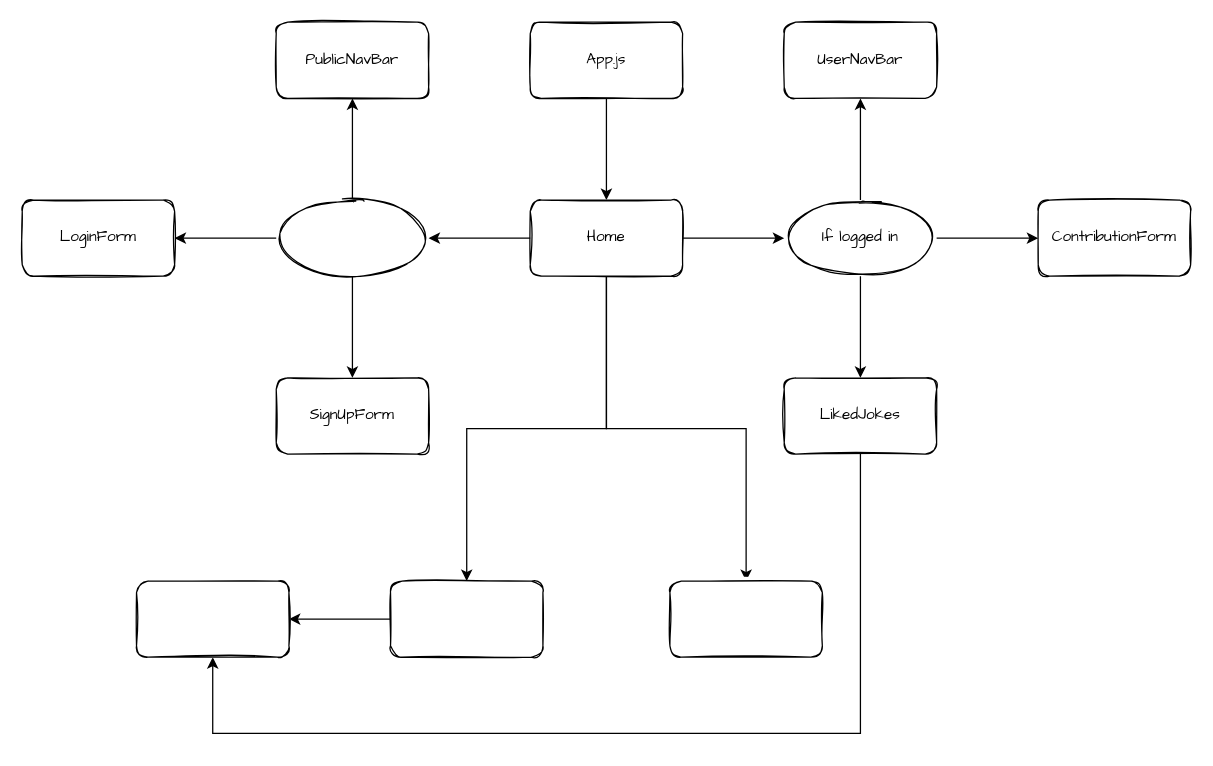
The diagram is 1213 pixels wide and 766 high, and some of its shapes have lost their labels. The centre of each missing label's shape, as x and y in pixels:
"About" belongs at pixel 745 618.
"If logged out" belongs at pixel 352 237.
"JokeCard" belongs at pixel 212 618.
"Jokes" belongs at pixel 466 618.
